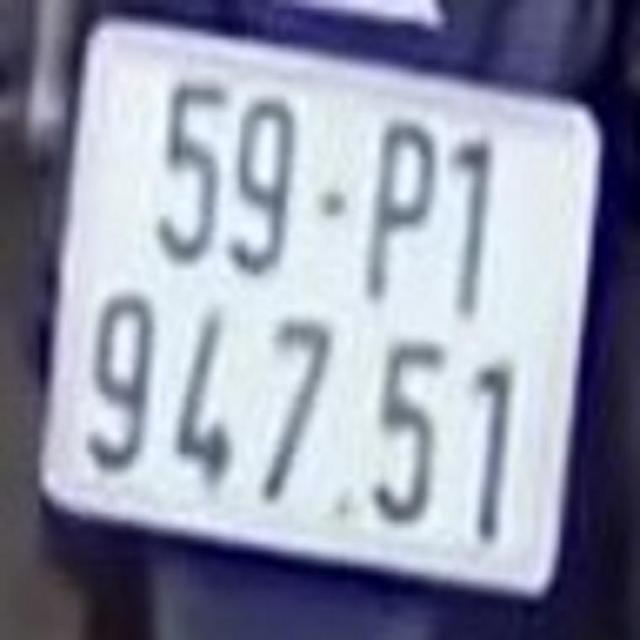1: (453, 316, 540, 543), (438, 116, 528, 332)
4: (168, 287, 242, 492)
5: (368, 317, 451, 538), (155, 73, 226, 258)
7: (253, 286, 342, 526)
9: (74, 260, 161, 470), (233, 79, 304, 284)
P: (360, 95, 440, 324)
